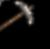pickaxe: (0, 0, 35, 32)
